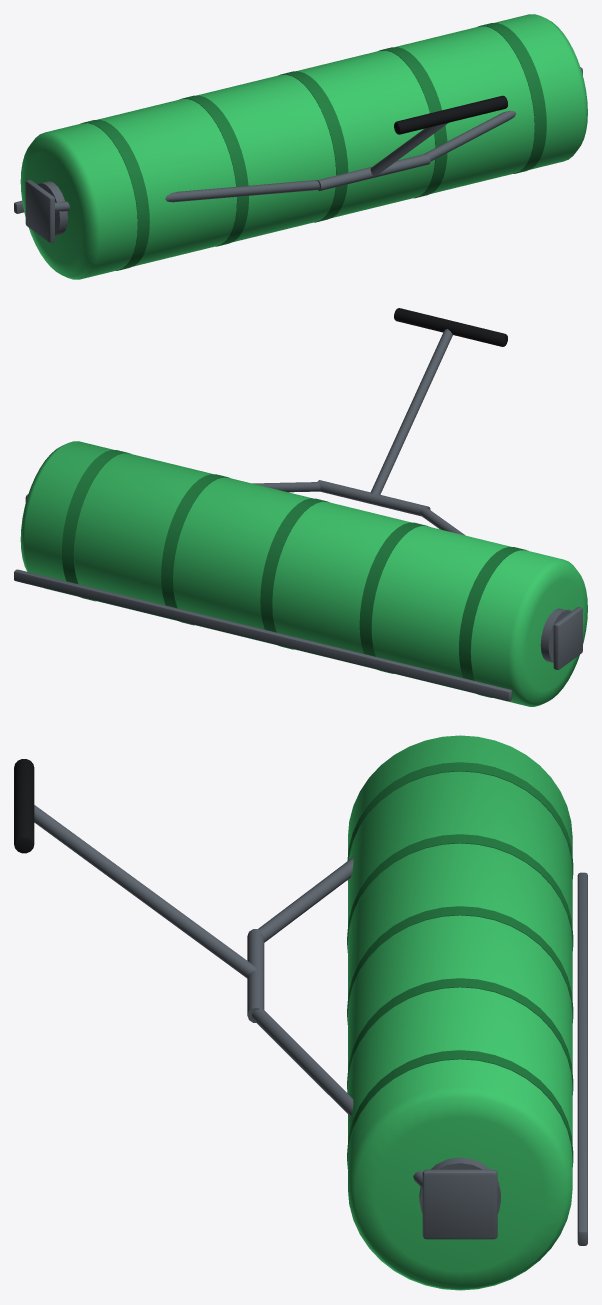
File: roller.glb
3 views of the same model, one above another, from view 1: azimuth 30°, elevation 25°; view 2: azimuth 150°, elevation 25°; view 3: azimuth 270°, elevation 25° (orthographic). The views are drawn at different scales.
Parts seen in each view (by area): view 1: Drum, Frame; view 2: Drum, Frame; view 3: Drum, Frame.
Boxes of the visible parts, box(x1,y1,x2,y2) form: Drum: box(20, 14, 587, 279); Frame: box(14, 67, 582, 242); Drum: box(20, 441, 587, 706); Frame: box(14, 308, 582, 701); Drum: box(347, 735, 573, 1290); Frame: box(14, 759, 587, 1245).
Size of the model in its own units: 2.69 by 1.03 by 1.68.
